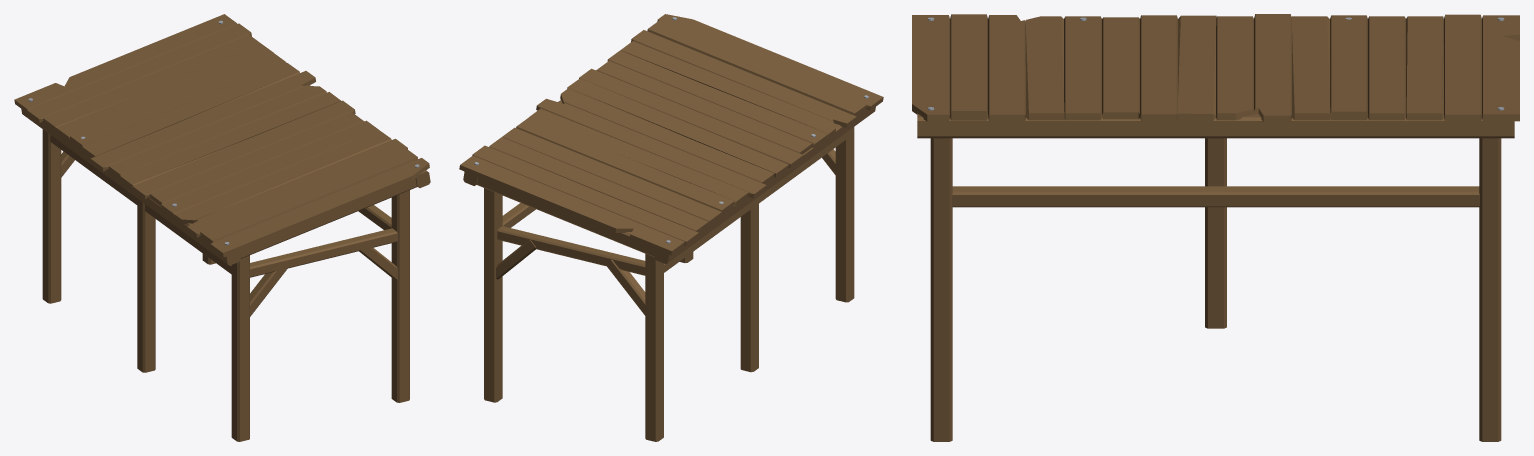
The model's file is Cover thin 1.fbx.
3 views of the same model, side by side, from view 1: azimuth 30°, elevation 25°; view 2: azimuth 150°, elevation 25°; view 3: azimuth 270°, elevation 25° (orthographic). The views are drawn at different scales.
Parts seen in each view (by area): view 1: Cover 1 thin; view 2: Cover 1 thin; view 3: Cover 1 thin.
Boxes of the visible parts, <box> form: Cover 1 thin: <box>14,14,430,441</box>; Cover 1 thin: <box>459,14,883,441</box>; Cover 1 thin: <box>912,14,1519,441</box>.
Size of the model in its own units: 3.58 by 3.71 by 6.
